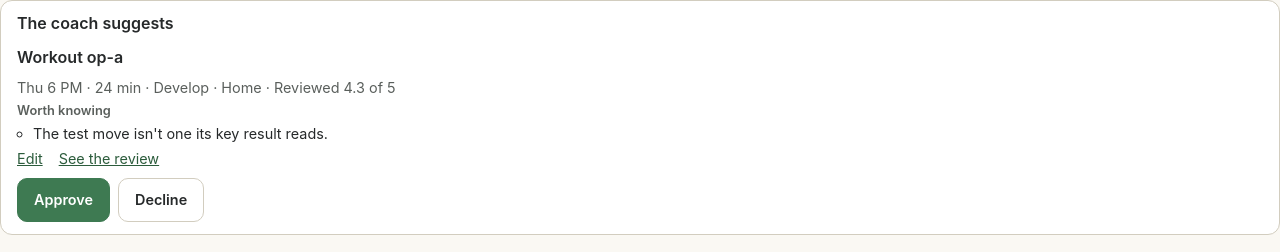
Scenario: fix wave 3B: the workout's line (M1, M2, M3, M7, M8, M10) › after Approve, the focus goes to the outcome line (B-I9)
Click the button "Approve" at [64, 200], box [17, 178, 110, 222]
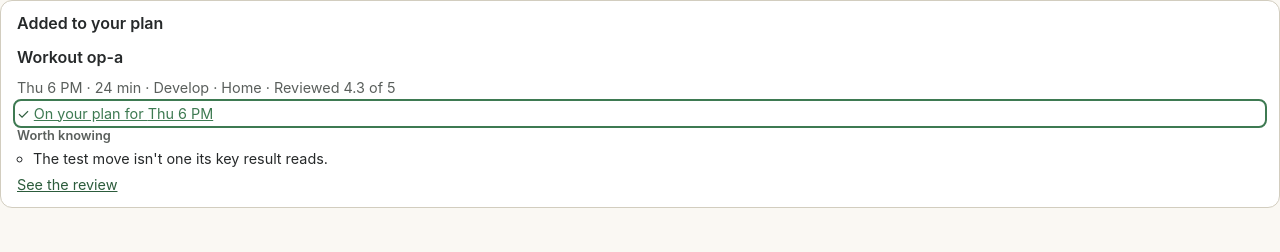
Result: the element with class "coach-pc-outcome" shows "On your plan for Thu 6 PM" at [17, 105, 213, 122]
